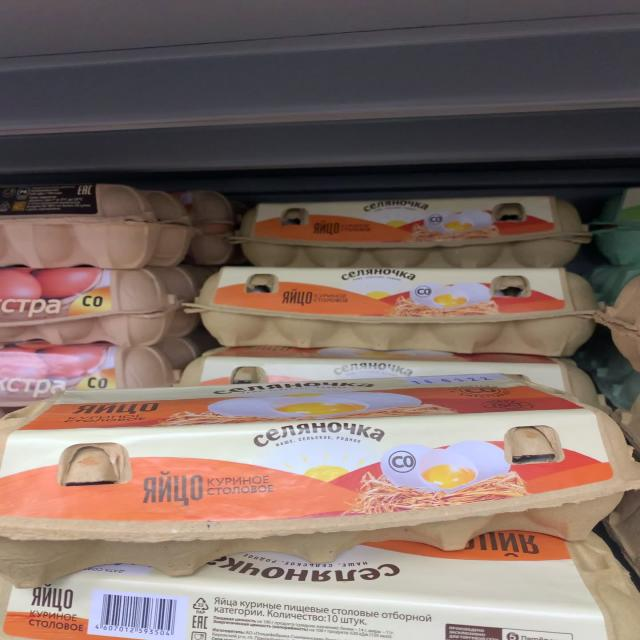egg box: (4, 363, 636, 597), (192, 262, 606, 358), (222, 189, 588, 268)
